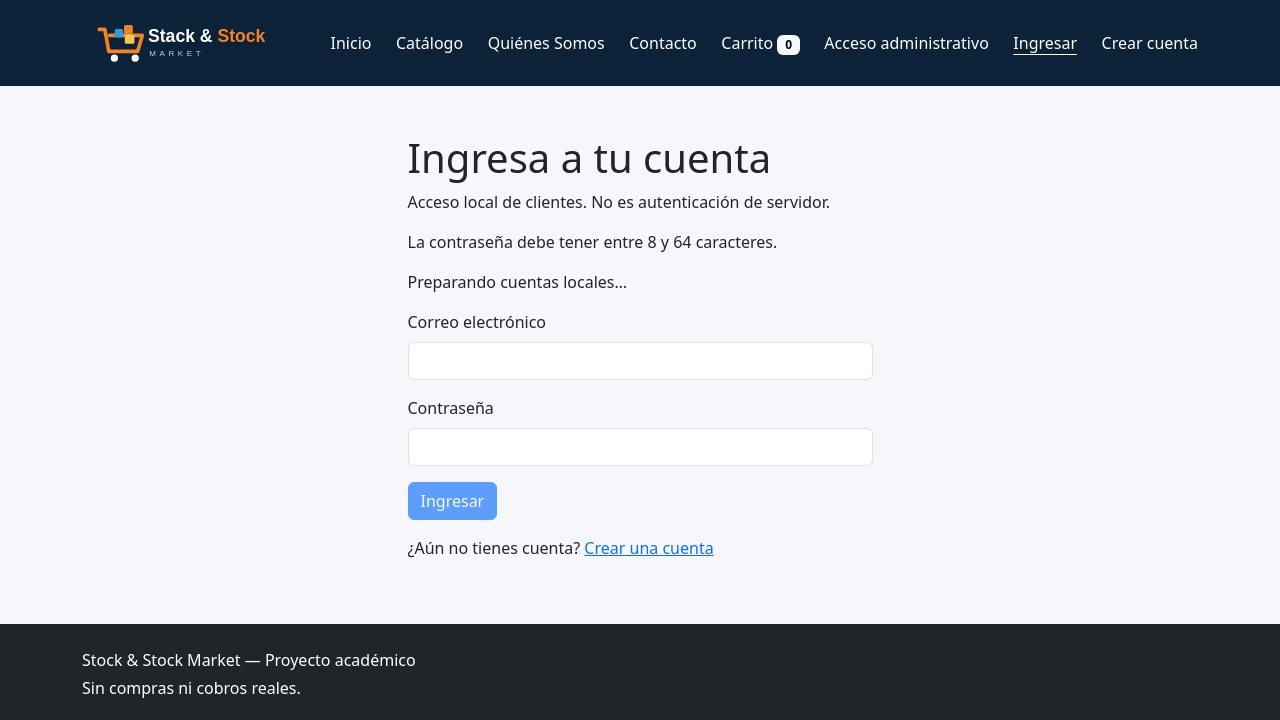
Test: Cuentas locales de clientes › rechaza credenciales incorrectas sin crear sesión
Type "cliente@gmail.com" into the field labelled "Correo electrónico" at (640,361), box [408,342,872,380]
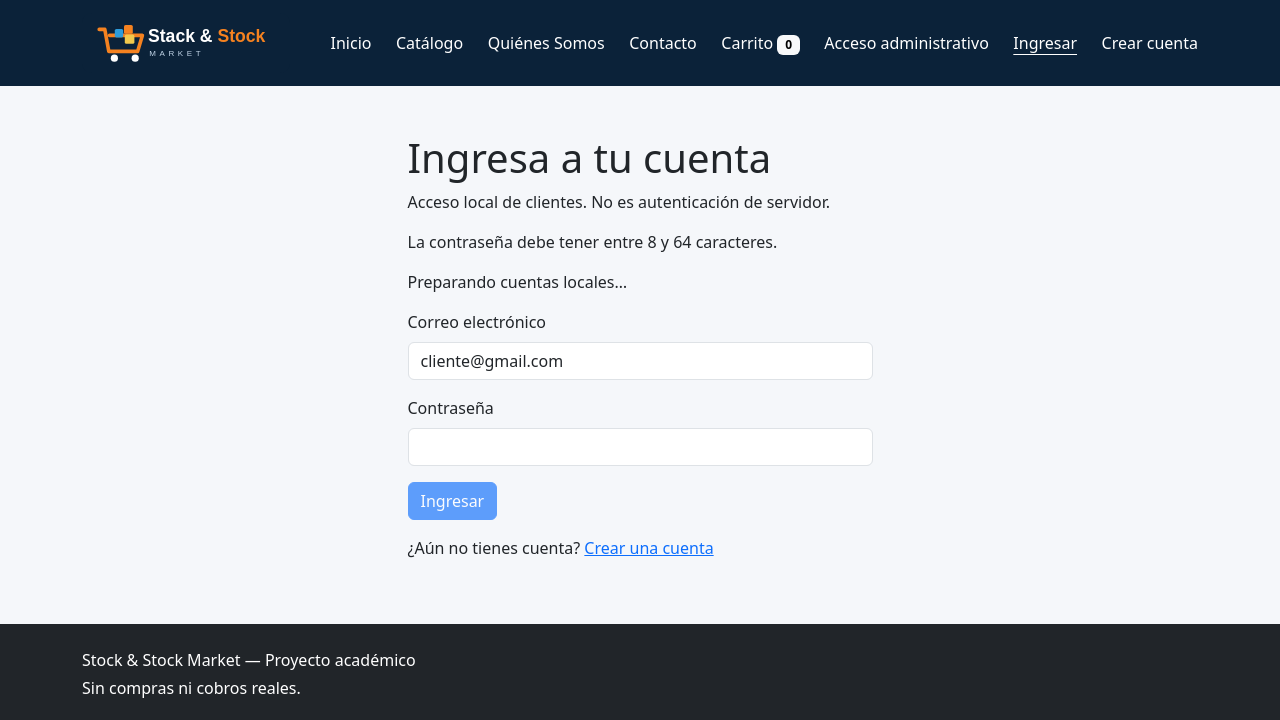
Type "Incorrecta123" into the password field labelled "Contraseña" at (640,447), box [408,428,872,466]
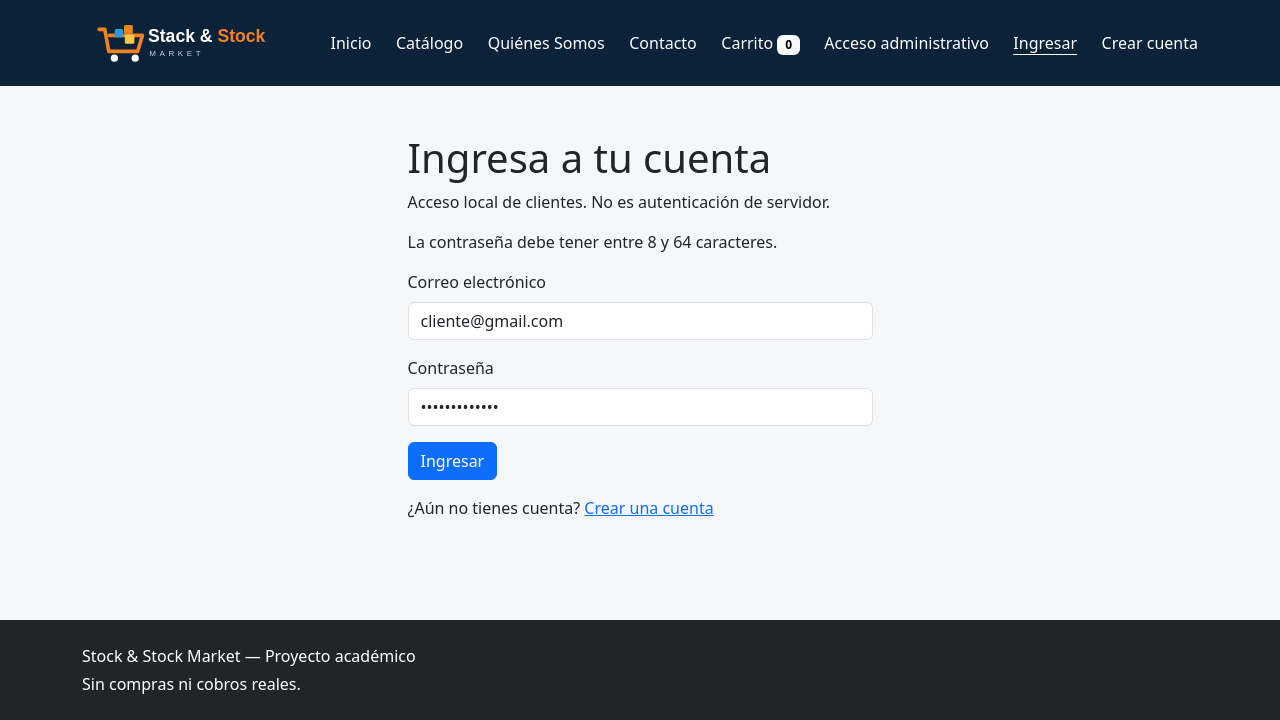
Now the button "Ingresar" is enabled
Click the button "Ingresar" at (452,461), box [408,442,497,480]
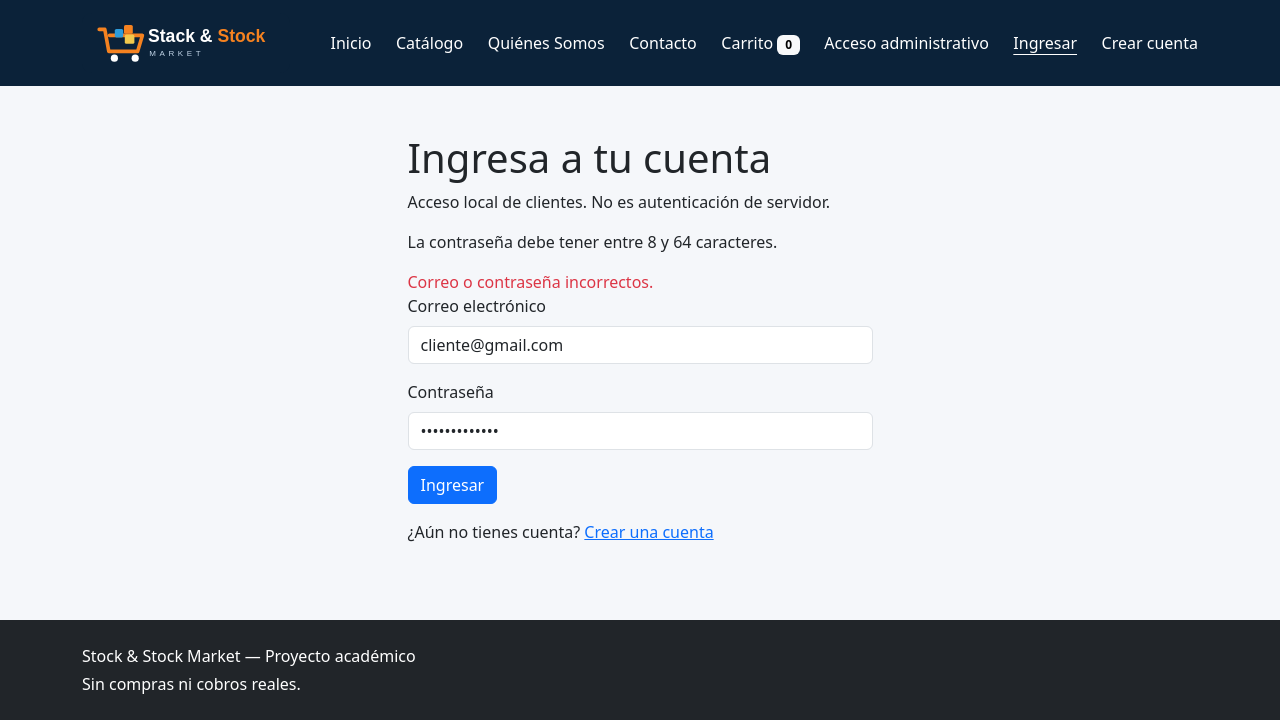
Now the text "Correo o contraseña incorrectos." is shown, box [408,271,653,293]
